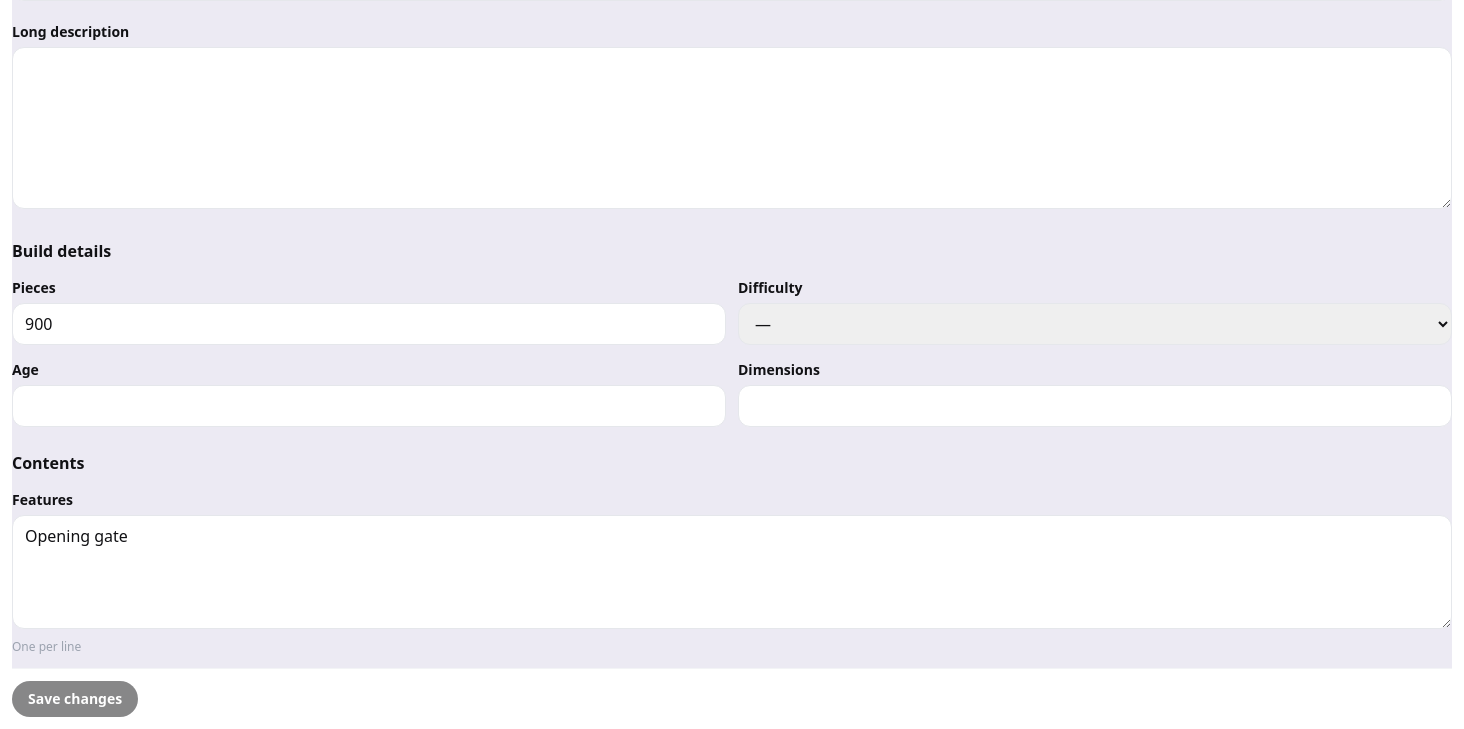
Test: InfoTab › renders field errors from core beside the field
(page scrolled)
Replace the text in the field labelled "Pieces" with "0" at (369, 324), box [12,303,726,345]
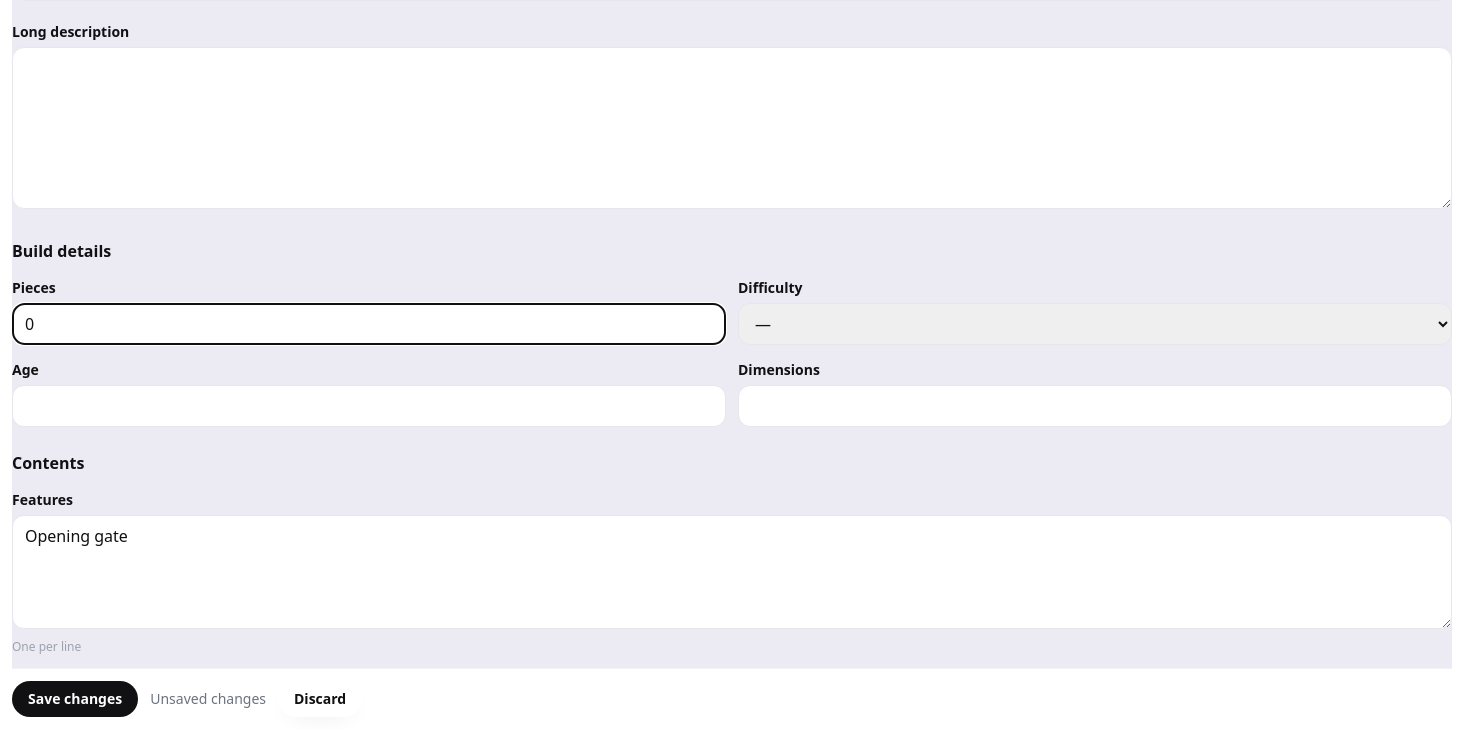
Click the button "Save changes" at (75, 699), box [12,681,138,717]
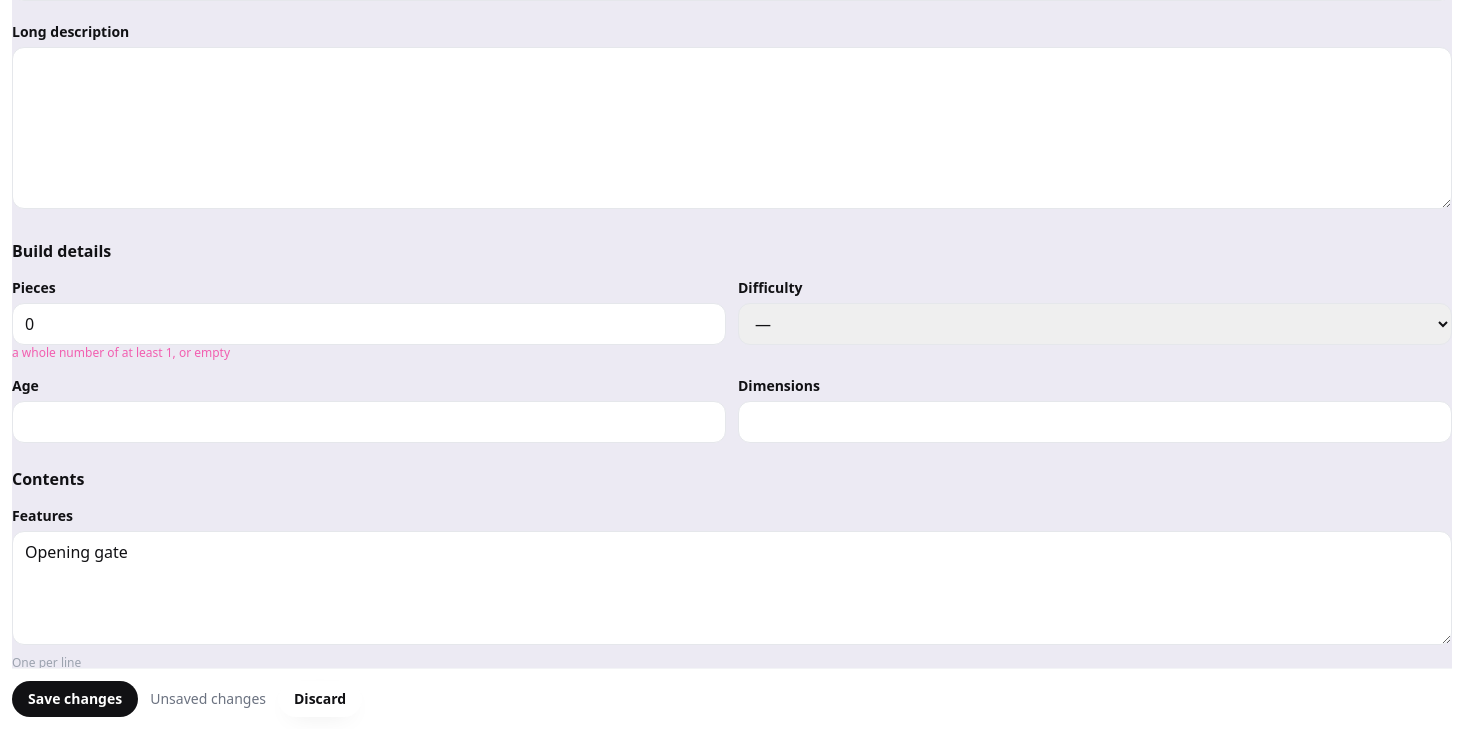
Now the text "a whole number of at least 1, or empty" is shown, box [12,344,230,361]
